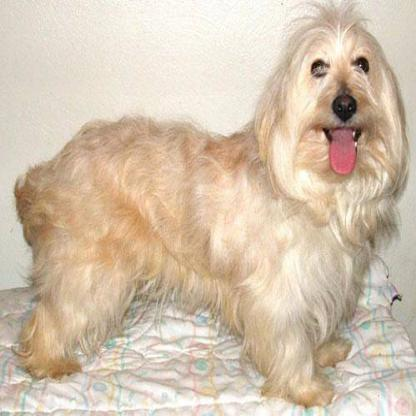dog: (19, 11, 402, 396)
